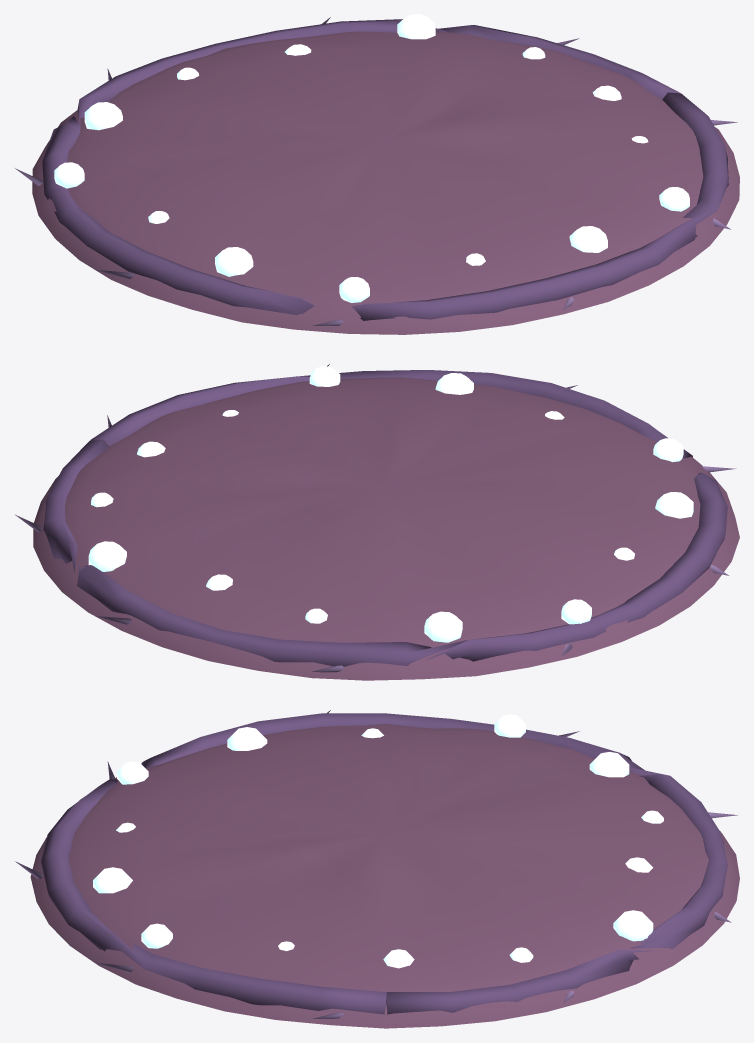
The model's file is mound.glb.
3 renders of one model, top to bottom at view 1: azimuth 30°, elevation 25°; view 2: azimuth 150°, elevation 25°; view 3: azimuth 270°, elevation 25°, orthographic.
Visible parts, largest first — view 1: ground, roots, glow; view 2: ground, roots, glow; view 3: ground, roots, glow.
Part boxes in pixels (x1=…): ground: x1=32, y1=31, x2=739, y2=334; roots: x1=15, y1=17, x2=737, y2=325; glow: x1=54, y1=14, x2=689, y2=302; ground: x1=33, y1=377, x2=739, y2=680; roots: x1=15, y1=364, x2=736, y2=672; glow: x1=88, y1=366, x2=693, y2=642; ground: x1=30, y1=724, x2=739, y2=1028; roots: x1=15, y1=710, x2=737, y2=1018; glow: x1=93, y1=714, x2=663, y2=968.
Size of what is drawn, in the model's own units: 2.07 by 0.1769 by 2.05.
